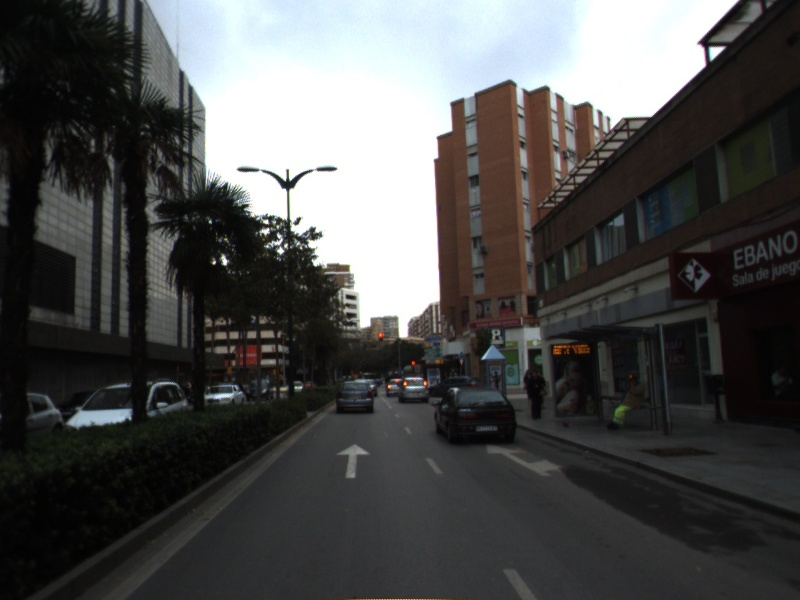STRAIGHT: (334, 442, 373, 480)
STRAIGHT_RIGHT: (485, 443, 568, 477)
